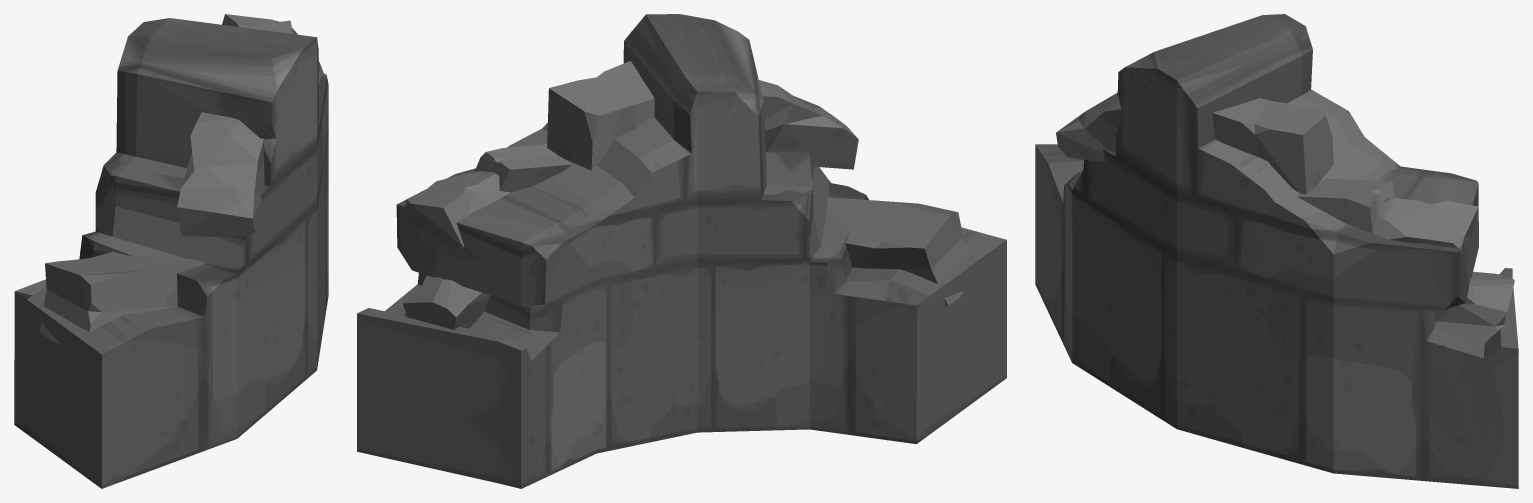
File: SM_Bld_Wall_L_Curve_Half_Damaged_06.fbx
The picture shows the model from 3 angles, left to right: view 1: azimuth 30°, elevation 25°; view 2: azimuth 150°, elevation 25°; view 3: azimuth 270°, elevation 25°; orthographic projection. The views are drawn at different scales.
Parts seen in each view (by area): view 1: SM_Bld_Wall_L_Curve_Half_Damaged_06; view 2: SM_Bld_Wall_L_Curve_Half_Damaged_06; view 3: SM_Bld_Wall_L_Curve_Half_Damaged_06.
Boxes of the visible parts, x1,y1,x2,y2 form: SM_Bld_Wall_L_Curve_Half_Damaged_06: [14, 14, 328, 488]; SM_Bld_Wall_L_Curve_Half_Damaged_06: [357, 14, 1006, 488]; SM_Bld_Wall_L_Curve_Half_Damaged_06: [1035, 14, 1518, 488].
Bounding box in the file's own units: 377 × 300 × 374.
